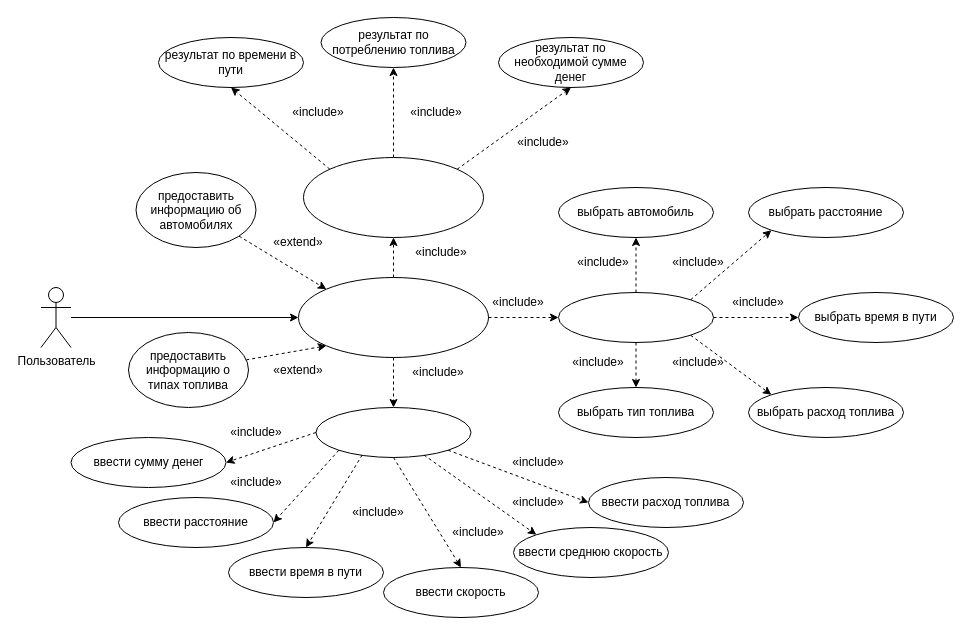
Some shapes in this 971 by 635 pixel diagram are drawn without their labels. The centre of each missing label's shape, as x and y in pixels:
"ввести данные" goes at point 393,432.
"выбрать данные" goes at point 636,317.
"осуществить формирование результата" goes at point 393,197.
"рассчитать стоимость поездки" goes at point 393,317.
